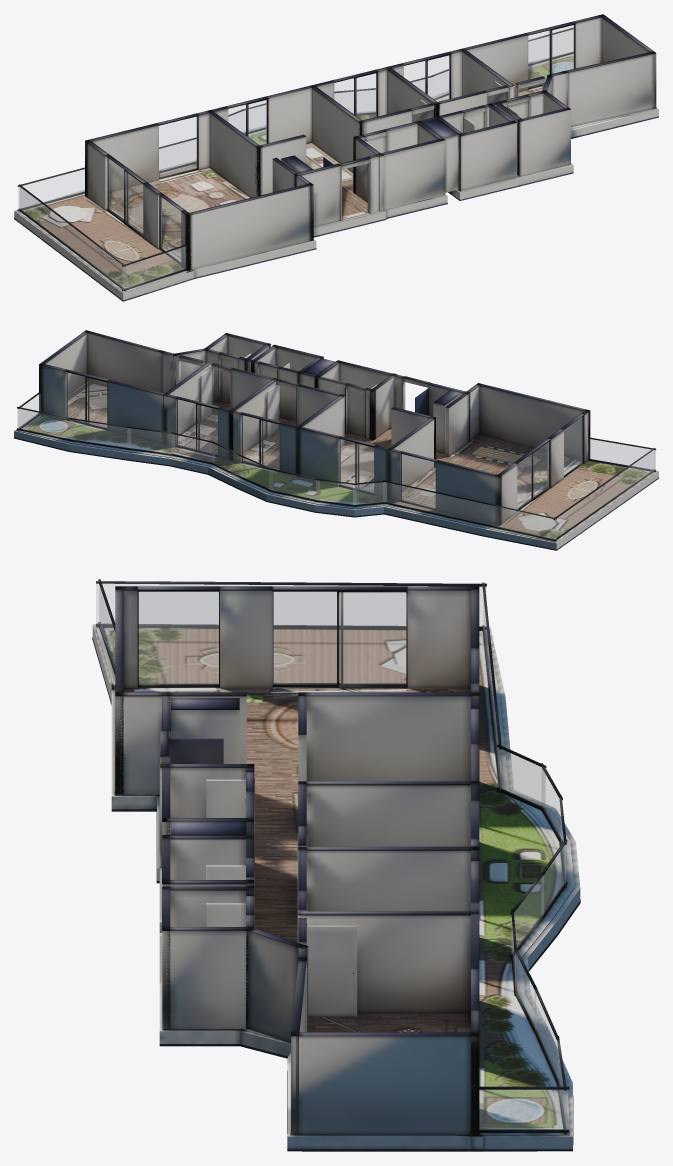
3 views of the same model, one above another, from view 1: azimuth 30°, elevation 25°; view 2: azimuth 150°, elevation 25°; view 3: azimuth 270°, elevation 25° (orthographic). The views are drawn at different scales.
Parts seen in each view (by area): view 1: plan, railg12_m, railg8_m, glass2_m, glass6_m, glass0_m, railg0_m, glass4_m, glass5_m, glass3_m, glass1_m, railg2_m (+1 smaller); view 2: plan, railg8_m, railg12_m, glass6_m, glass5_m, glass4_m, glass2_m, glass3_m, glass0_m, railg0_m, railg3_m, railg2_m (+9 smaller); view 3: plan, glass0_m, railg12_m, glass1_m, railg1_m, railg11_m, railg6_m, railg7_m, railg3_m, railg4_m.
Part boxes in pixels (x1=…): plan: x1=14, y1=14, x2=658, y2=301; railg12_m: x1=19, y1=187, x2=125, y2=289; railg8_m: x1=18, y1=140, x2=195, y2=209; glass2_m: x1=159, y1=117, x2=197, y2=177; glass6_m: x1=528, y1=25, x2=573, y2=87; glass0_m: x1=107, y1=157, x2=142, y2=234; railg0_m: x1=122, y1=246, x2=185, y2=288; glass4_m: x1=334, y1=73, x2=376, y2=119; glass5_m: x1=404, y1=55, x2=449, y2=101; glass3_m: x1=228, y1=100, x2=266, y2=144; glass1_m: x1=160, y1=196, x2=180, y2=262; railg2_m: x1=529, y1=30, x2=572, y2=63; plan: x1=14, y1=330, x2=658, y2=550; railg8_m: x1=383, y1=482, x2=556, y2=539; railg12_m: x1=554, y1=450, x2=654, y2=539; glass6_m: x1=66, y1=372, x2=106, y2=427; glass5_m: x1=177, y1=399, x2=217, y2=454; glass4_m: x1=242, y1=415, x2=279, y2=469; glass2_m: x1=401, y1=454, x2=435, y2=507; glass3_m: x1=339, y1=439, x2=373, y2=492; glass0_m: x1=517, y1=442, x2=548, y2=508; railg0_m: x1=589, y1=439, x2=655, y2=469; railg3_m: x1=70, y1=419, x2=130, y2=448; railg2_m: x1=17, y1=409, x2=73, y2=439; plan: x1=92, y1=579, x2=580, y2=1151; glass0_m: x1=273, y1=592, x2=405, y2=684; railg12_m: x1=96, y1=584, x2=486, y2=626; glass1_m: x1=139, y1=592, x2=218, y2=684; railg1_m: x1=479, y1=1090, x2=568, y2=1129; railg11_m: x1=498, y1=748, x2=544, y2=807; railg6_m: x1=511, y1=876, x2=543, y2=954; railg7_m: x1=541, y1=845, x2=565, y2=915; railg3_m: x1=535, y1=992, x2=558, y2=1080; railg4_m: x1=515, y1=953, x2=535, y2=1029.
Size of the model in its own units: 25.24 by 2.62 by 10.17.
2 materials, 1 textured.
